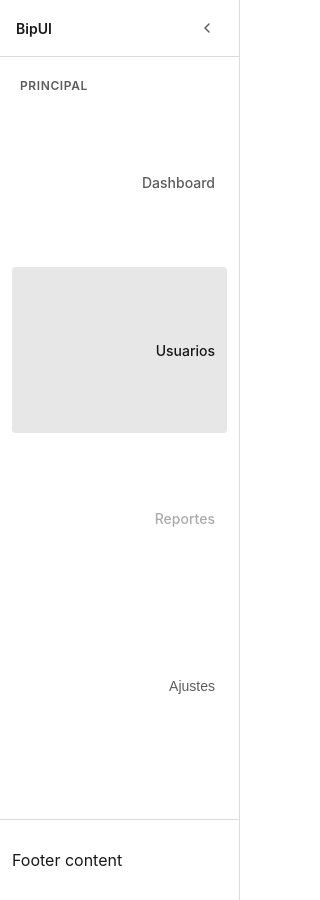
Sidebar › SidebarTrigger has aria-expanded reflecting expanded state
Click the button named "Colapsar sidebar" at (207, 28), box 191,12 -> 223,44
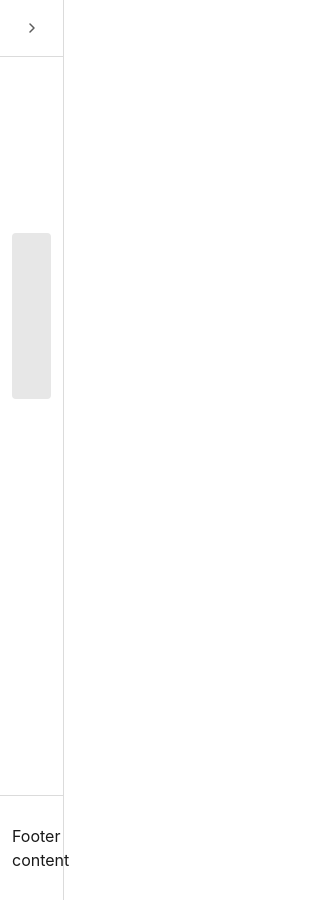
Expected: the button named "Expandir sidebar" is collapsed, 16,12 -> 48,44
